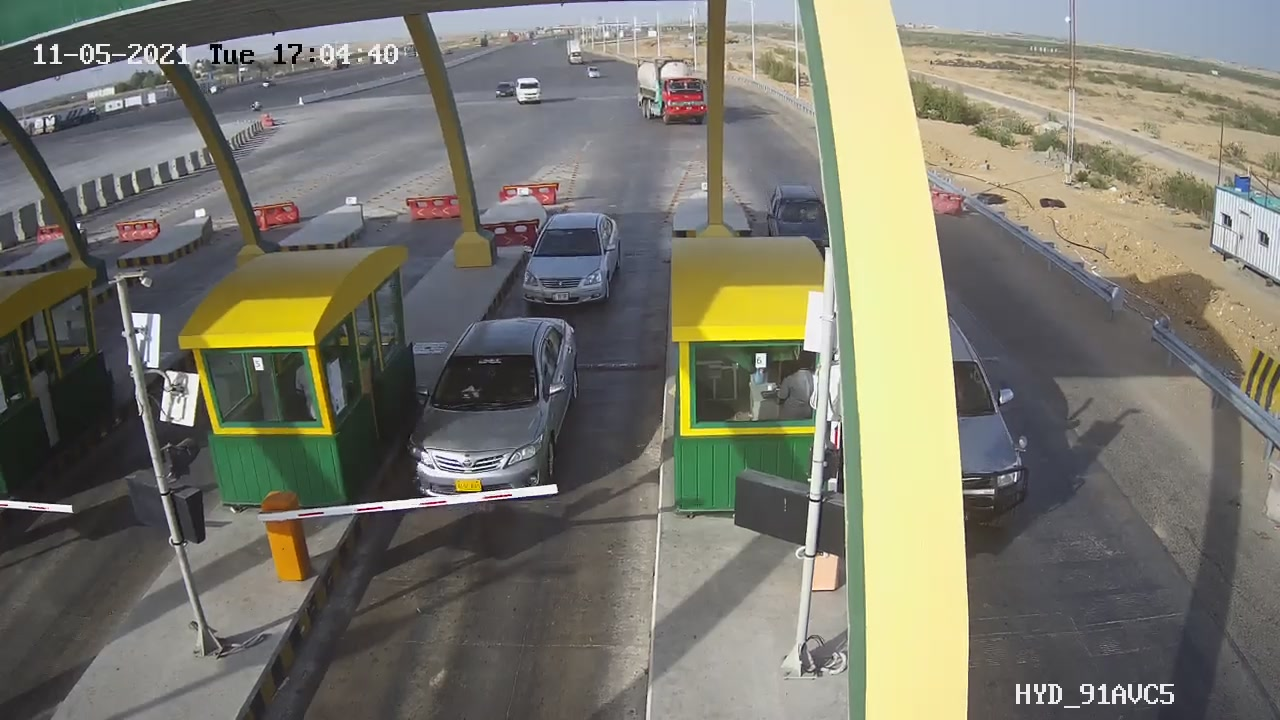F1: (398, 304, 600, 512), (508, 198, 638, 321)
